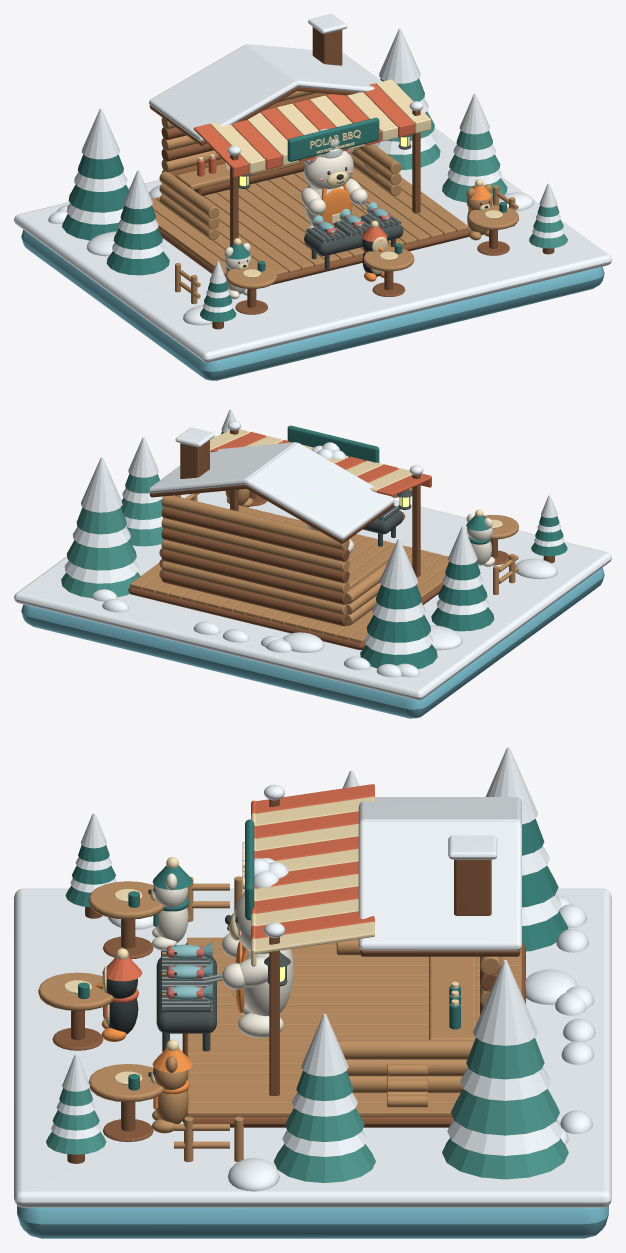
Rendered from polar-bbq.glb.
3 renders of one model, top to bottom at view 1: azimuth 30°, elevation 25°; view 2: azimuth 150°, elevation 25°; view 3: azimuth 270°, elevation 25°, orthographic. The views are drawn at different scales.
Parts seen in each view (by area): view 1: Thick snow, Ice island, Roof snow, Roof snow.001, Shop sign, Wood platform, Snow tier.005, Deck plank.005, Pine tier.001, Deck plank.006, Snow tier.002, Deck plank.015 (+61 smaller); view 2: Thick snow, Ice island, Roof snow, Roof snow.001, Back log.007, Back log.004, Back log.005, Back log.003, Back log.006, Back log, Back log.001, Back log.002 (+43 smaller); view 3: Thick snow, Ice island, Roof snow.001, Roof snow, Pine tier.004, Back counter, Snow tier.005, Pine tier.003, Deck plank.017, Pine tier.009, Side log.005, Pine tier.005 (+65 smaller).
Part boxes in pixels (x1,y1,x2,y2): Thick snow: (14, 127, 611, 362); Ice island: (21, 230, 604, 380); Roof snow: (149, 44, 297, 141); Roof snow.001: (246, 44, 382, 92); Shop sign: (287, 117, 379, 161); Wood platform: (157, 228, 469, 284); Snow tier.005: (379, 28, 420, 83); Deck plank.005: (204, 193, 313, 269); Pine tier.001: (68, 184, 128, 212); Deck plank.006: (216, 189, 324, 266); Snow tier.002: (81, 108, 119, 159); Deck plank.015: (350, 167, 443, 238); Thick snow: (14, 490, 611, 700); Ice island: (21, 567, 604, 718); Roof snow: (245, 442, 394, 539); Roof snow.001: (149, 442, 296, 493); Back log.007: (161, 495, 349, 550); Back log.004: (161, 528, 349, 583); Back log.005: (161, 518, 349, 572); Back log.003: (161, 539, 349, 593); Back log.006: (161, 507, 349, 561); Back log: (161, 571, 346, 626); Back log.001: (161, 561, 346, 615); Back log.002: (161, 550, 346, 604); Thick snow: (14, 888, 611, 1207); Ice island: (17, 1205, 608, 1238); Roof snow.001: (358, 821, 521, 950); Roof snow: (358, 797, 521, 824); Pine tier.004: (451, 1089, 559, 1135); Back counter: (429, 956, 476, 1039); Snow tier.005: (473, 960, 537, 1045); Pine tier.003: (442, 1138, 568, 1179); Deck plank.017: (187, 1103, 454, 1116); Pine tier.009: (274, 1144, 375, 1182); Side log.005: (337, 1040, 474, 1059); Pine tier.005: (466, 1038, 544, 1079).
Size of the model in its own units: 12.35 by 5.61 by 10.1.
